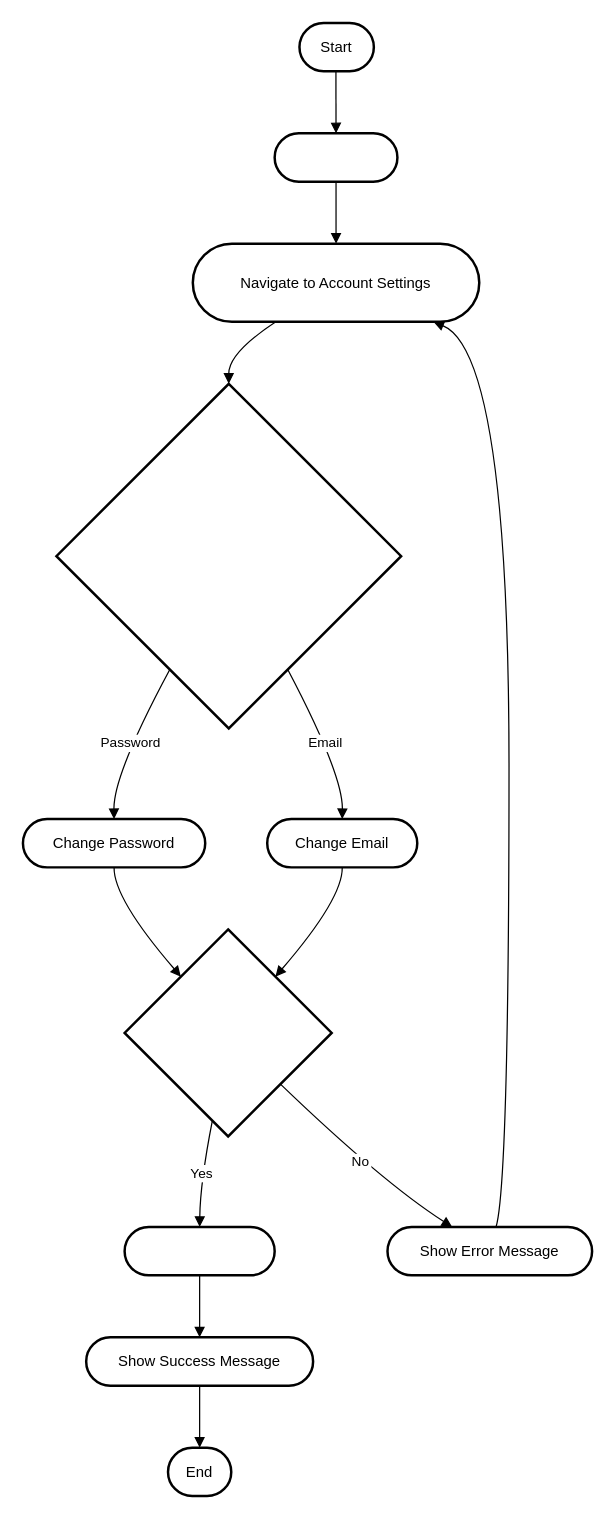
Some shapes in this 614 by 1518 pixel diagram are drawn without their labels. Here are the shapes that lost their labels. From the top down, the box of each, then its label:
(273, 131, 398, 182): User Login
(55, 382, 402, 729): Choose Credential to Change
(123, 928, 332, 1137): Is Change Valid?
(123, 1225, 275, 1276): Save Changes
